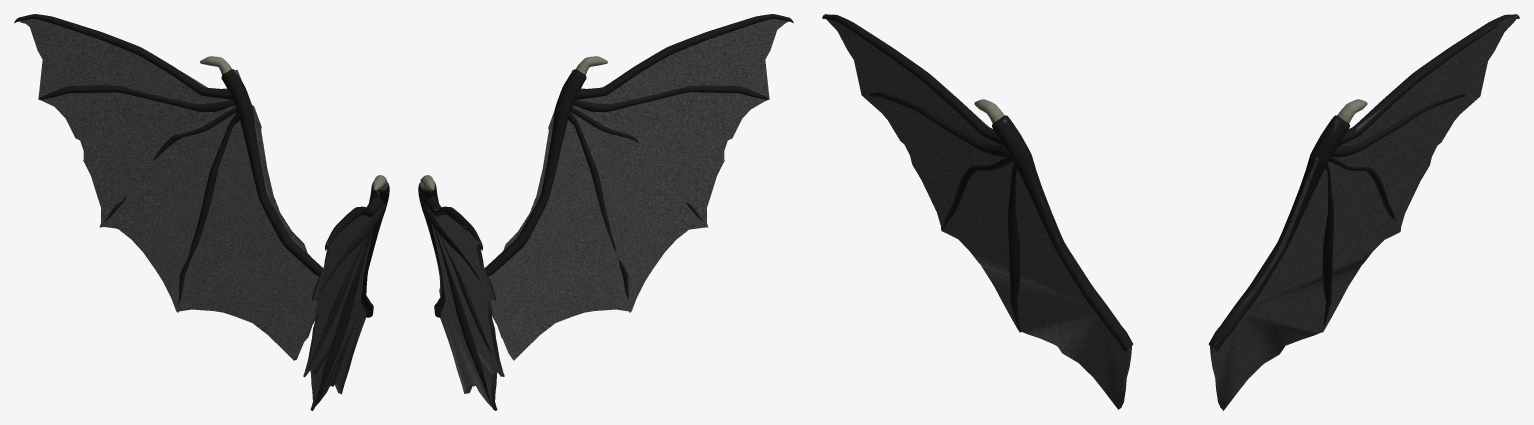
The model's file is yarasaback.fbx.
3 renders of one model, left to right at view 1: azimuth 30°, elevation 25°; view 2: azimuth 150°, elevation 25°; view 3: azimuth 270°, elevation 25°, orthographic. The views are drawn at different scales.
Parts seen in each view (by area): view 1: Vert; view 2: Vert; view 3: Vert.
Boxes of the visible parts, x1,y1,x2,y2 form: Vert: (14,14,389,410); Vert: (418,14,793,410); Vert: (822,14,1519,410).
Bounding box in the file's own units: 105 × 157 × 309.
